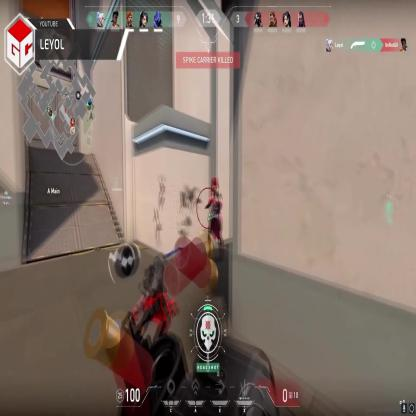enemy: (206, 181, 224, 260)
enemy_head: (212, 181, 219, 194)
